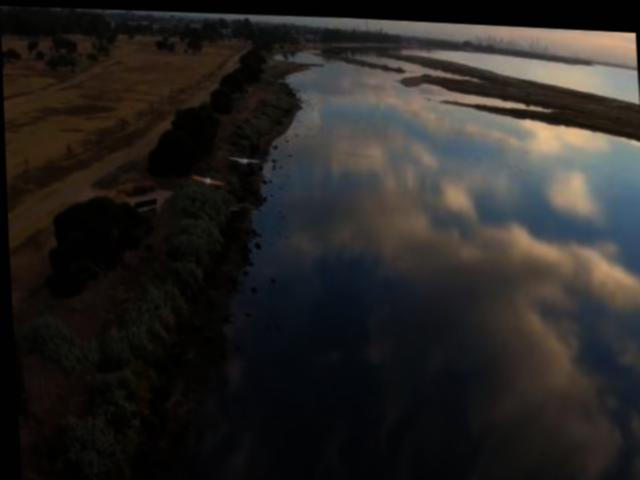uav: (184, 168, 227, 187), (228, 149, 260, 163)
